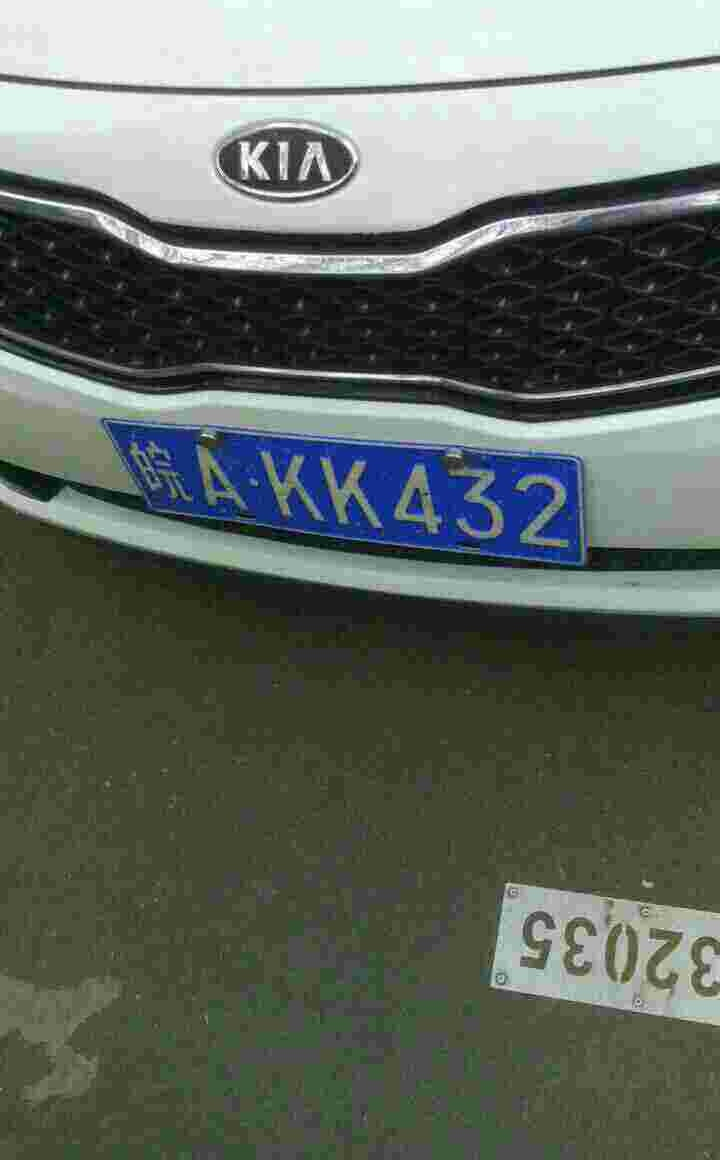license_plate: (113, 424, 584, 566)
